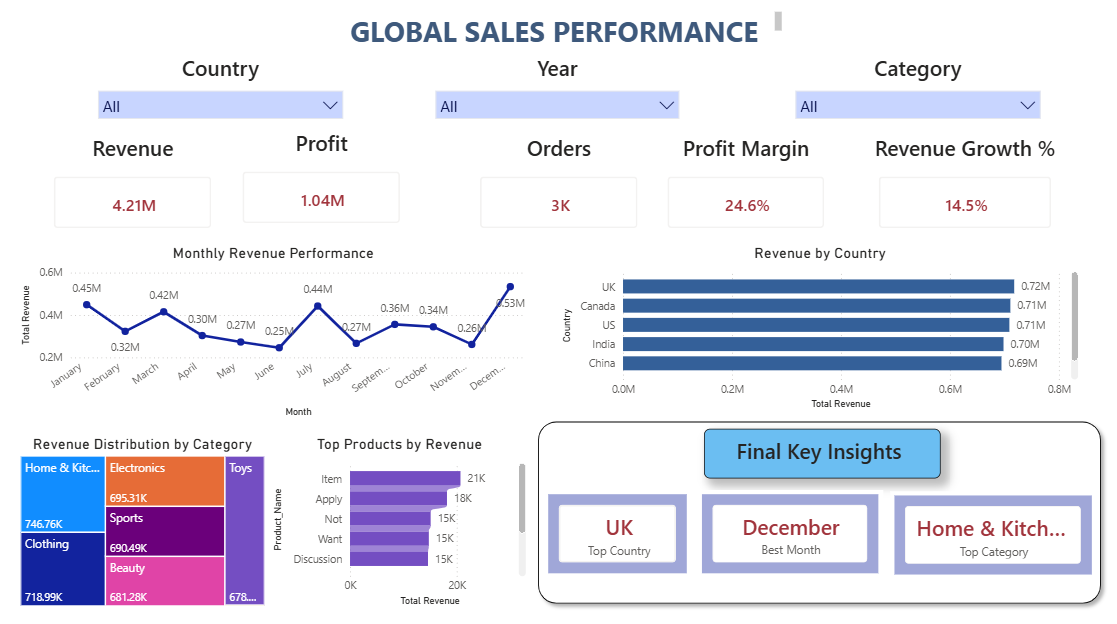

This screenshot's page, from the dashboard's own definition file:
{"tool":"powerbi","page":{"name":"Page 1","canvas":[1280,720],"ordinal":0},"visuals":[{"type":"textbox","box":[379.1,8.9,520.8,52.3],"z":0},{"type":"cardVisual","title":"Revenue","fields":{"Data":["public Sales_Data.Total Revenue"]},"box":[46,153.2,214.4,125.1],"z":1000},{"type":"cardVisual","title":"Profit","fields":{"Data":["public Sales_Data.Total Profit"]},"box":[261.7,146.8,214.4,125.1],"z":2000},{"type":"cardVisual","title":"Orders","fields":{"Data":["public Sales_Data.Total Orders"]},"box":[532.3,153.2,214.4,125.1],"z":3000},{"type":"cardVisual","title":"Profit Margin","fields":{"Data":["public Sales_Data.Profit Margin"]},"box":[746.7,153.2,213.2,125.1],"z":4000},{"type":"lineChart","title":"Monthly Revenue Performance","fields":{"Y":["public Sales_Data.Total Revenue"],"Category":["DateTable.Month"]},"box":[20.4,278.3,587.2,203],"z":5000},{"type":"clusteredBarChart","title":"Revenue by Country","fields":{"Category":["public Sales_Data.Country"],"Y":["public Sales_Data.Total Revenue"]},"box":[638.2,278.3,599.9,194],"z":6000},{"type":"treemap","title":"Revenue Distribution by Category","fields":{"Group":["public Sales_Data.Category"],"Values":["public Sales_Data.Total Revenue"]},"box":[20.4,497.8,288.5,200.4],"z":7000},{"type":"slicer","title":"Country","fields":{"Values":["public Sales_Data.Country"]},"box":[102.5,60.8,300.4,79.9],"z":8000},{"type":"barChart","title":"Top Products by Revenue","fields":{"Category":["public Sales_Data.Product_Name"],"Y":["public Sales_Data.Total Revenue"]},"box":[308.9,497.8,298.7,200.4],"z":9000},{"type":"cardVisual","title":"Revenue Growth %","fields":{"Data":["public Sales_Data.Revenue Growth"]},"box":[988,153.2,231,125.1],"z":10000},{"type":"slicer","title":"Year ","fields":{"Values":["DateTable.Year"]},"box":[488.7,60.8,299.2,79.9],"z":11000},{"type":"slicer","title":"Category","fields":{"Values":["public Sales_Data.Category"]},"box":[900,60.8,300.4,79.9],"z":12000},{"type":"shape","box":[607.6,472.3,661.2,225.9],"z":13000},{"type":"textbox","box":[805,490,270,56.7],"z":14000},{"type":"cardVisual","fields":{"Data":["public Sales_Data.Top Country"]},"box":[623.3,560,168.3,100],"z":15000},{"type":"cardVisual","fields":{"Data":["public Sales_Data.Best Month"]},"box":[798.3,560,211.7,100],"z":16000},{"type":"cardVisual","fields":{"Data":["public Sales_Data.Top Category"]},"box":[1018.3,561.7,235,100],"z":17000}]}

Visuals, with their boxes in screenshot pixels (x1, y1, x2, y2), scaled from the page's 1280x720 canvas onto the 1117x624 screenshot:
textbox: box=[331, 8, 785, 53]
"Revenue" cardVisual: box=[40, 133, 227, 241]
"Profit" cardVisual: box=[228, 127, 415, 236]
"Orders" cardVisual: box=[465, 133, 652, 241]
"Profit Margin" cardVisual: box=[652, 133, 838, 241]
"Monthly Revenue Performance" lineChart: box=[18, 241, 530, 417]
"Revenue by Country" clusteredBarChart: box=[557, 241, 1080, 409]
"Revenue Distribution by Category" treemap: box=[18, 431, 270, 605]
"Country" slicer: box=[89, 53, 352, 122]
"Top Products by Revenue" barChart: box=[270, 431, 530, 605]
"Revenue Growth %" cardVisual: box=[862, 133, 1064, 241]
"Year " slicer: box=[426, 53, 688, 122]
"Category" slicer: box=[785, 53, 1048, 122]
shape: box=[530, 409, 1107, 605]
textbox: box=[702, 425, 938, 474]
cardVisual - public Sales_Data.Top Country: box=[544, 485, 691, 572]
cardVisual - public Sales_Data.Best Month: box=[697, 485, 881, 572]
cardVisual - public Sales_Data.Top Category: box=[889, 487, 1094, 573]
